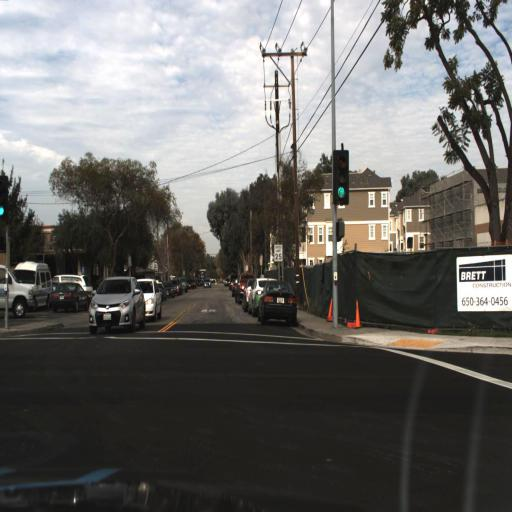car: (86, 273, 145, 336), (255, 279, 297, 326), (0, 263, 33, 320), (12, 259, 53, 301), (48, 281, 90, 312), (137, 276, 163, 319), (247, 272, 266, 313), (247, 279, 265, 318), (242, 276, 252, 312), (201, 276, 212, 290)
trafficLight: (332, 148, 349, 205)
truck: (0, 262, 37, 317), (10, 259, 51, 308), (48, 271, 92, 288)
